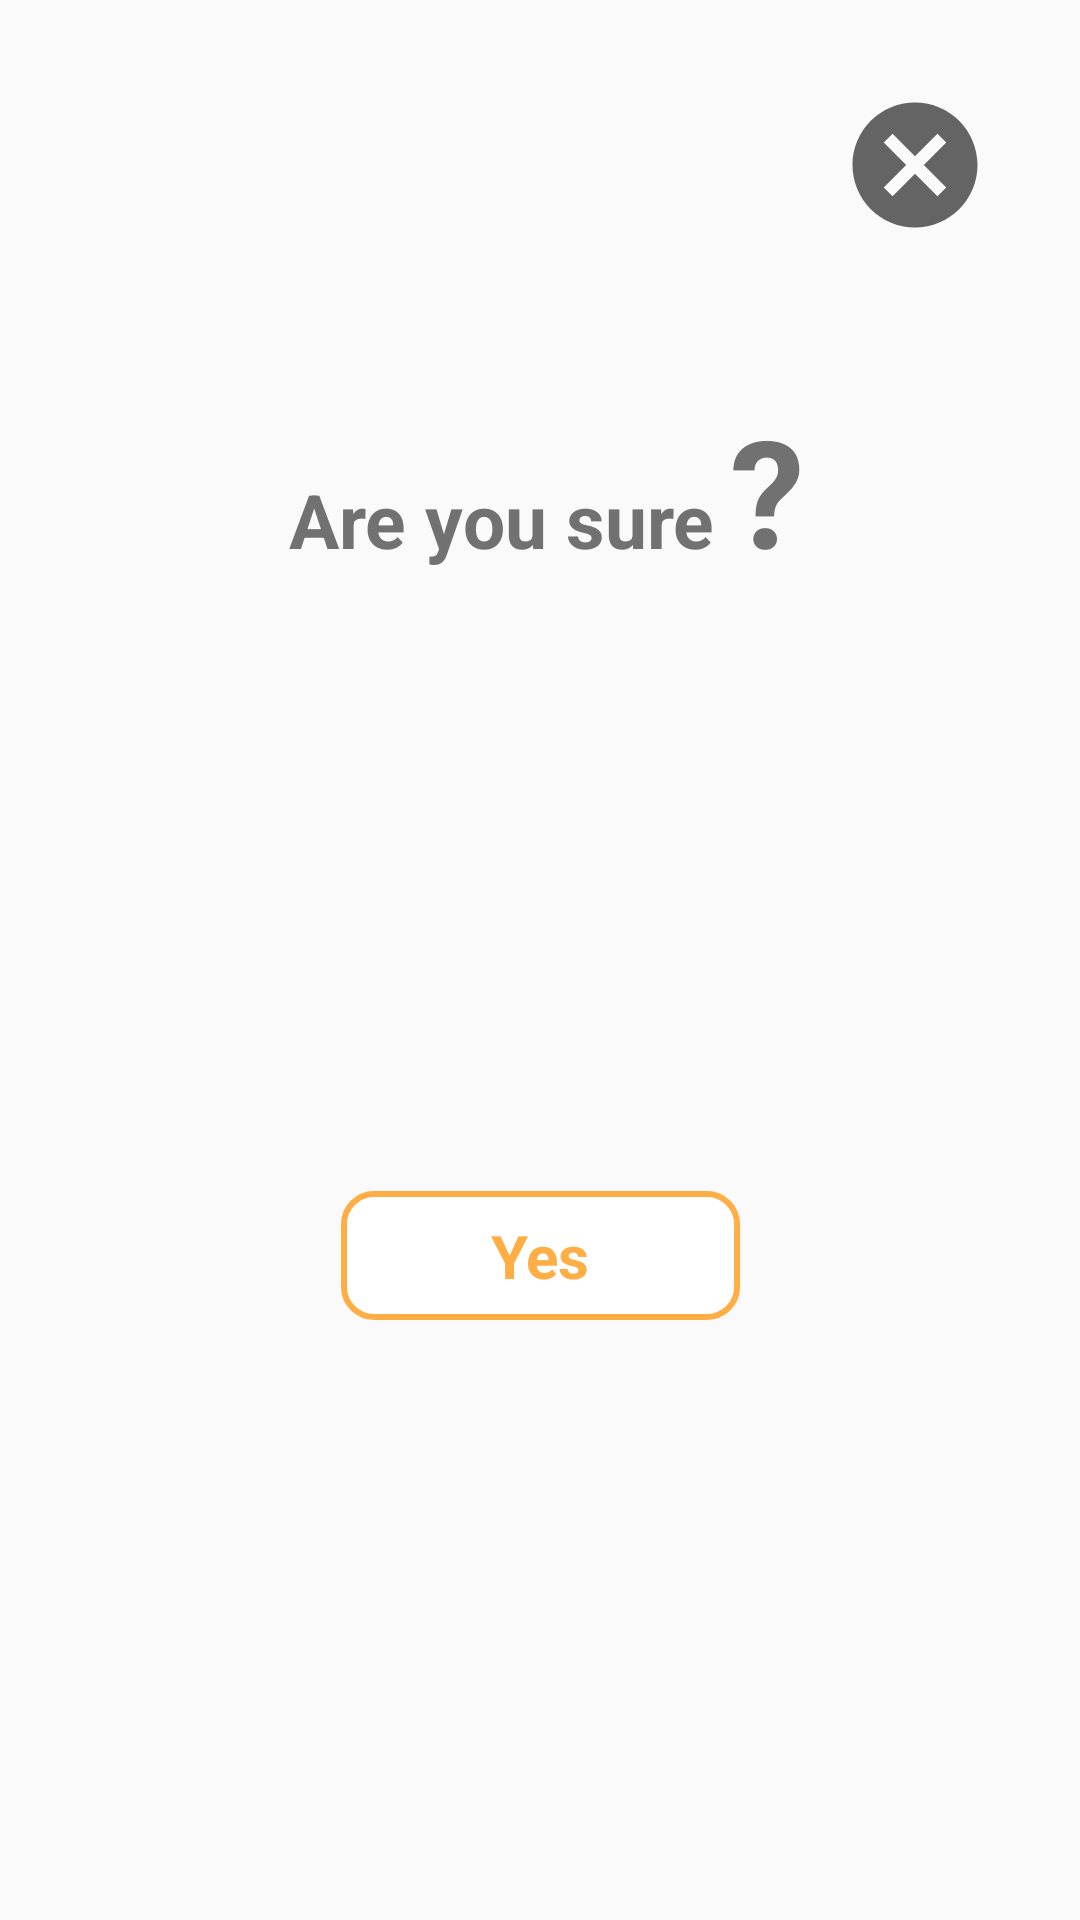

Icon bounding boxes for this 1080×1920 phone screenshot, format (x1=x1, y1=y1, x2=x2, y2=y2):
close: (x1=852, y1=102, x2=978, y2=228)
